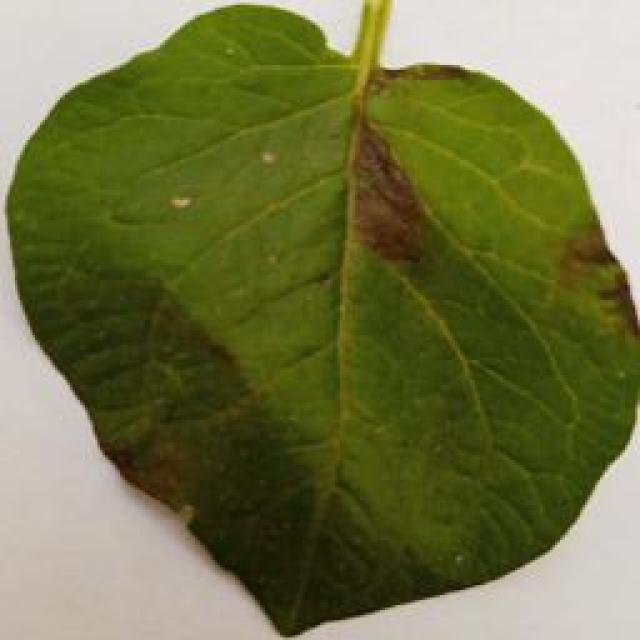Potato_Late_Blight: (7, 14, 634, 637)
